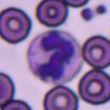N: (26, 30, 82, 84)
